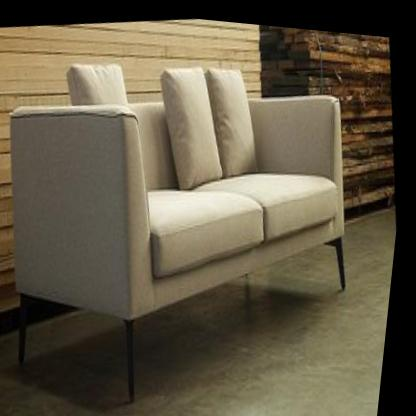Sofa: (0, 14, 398, 416)
